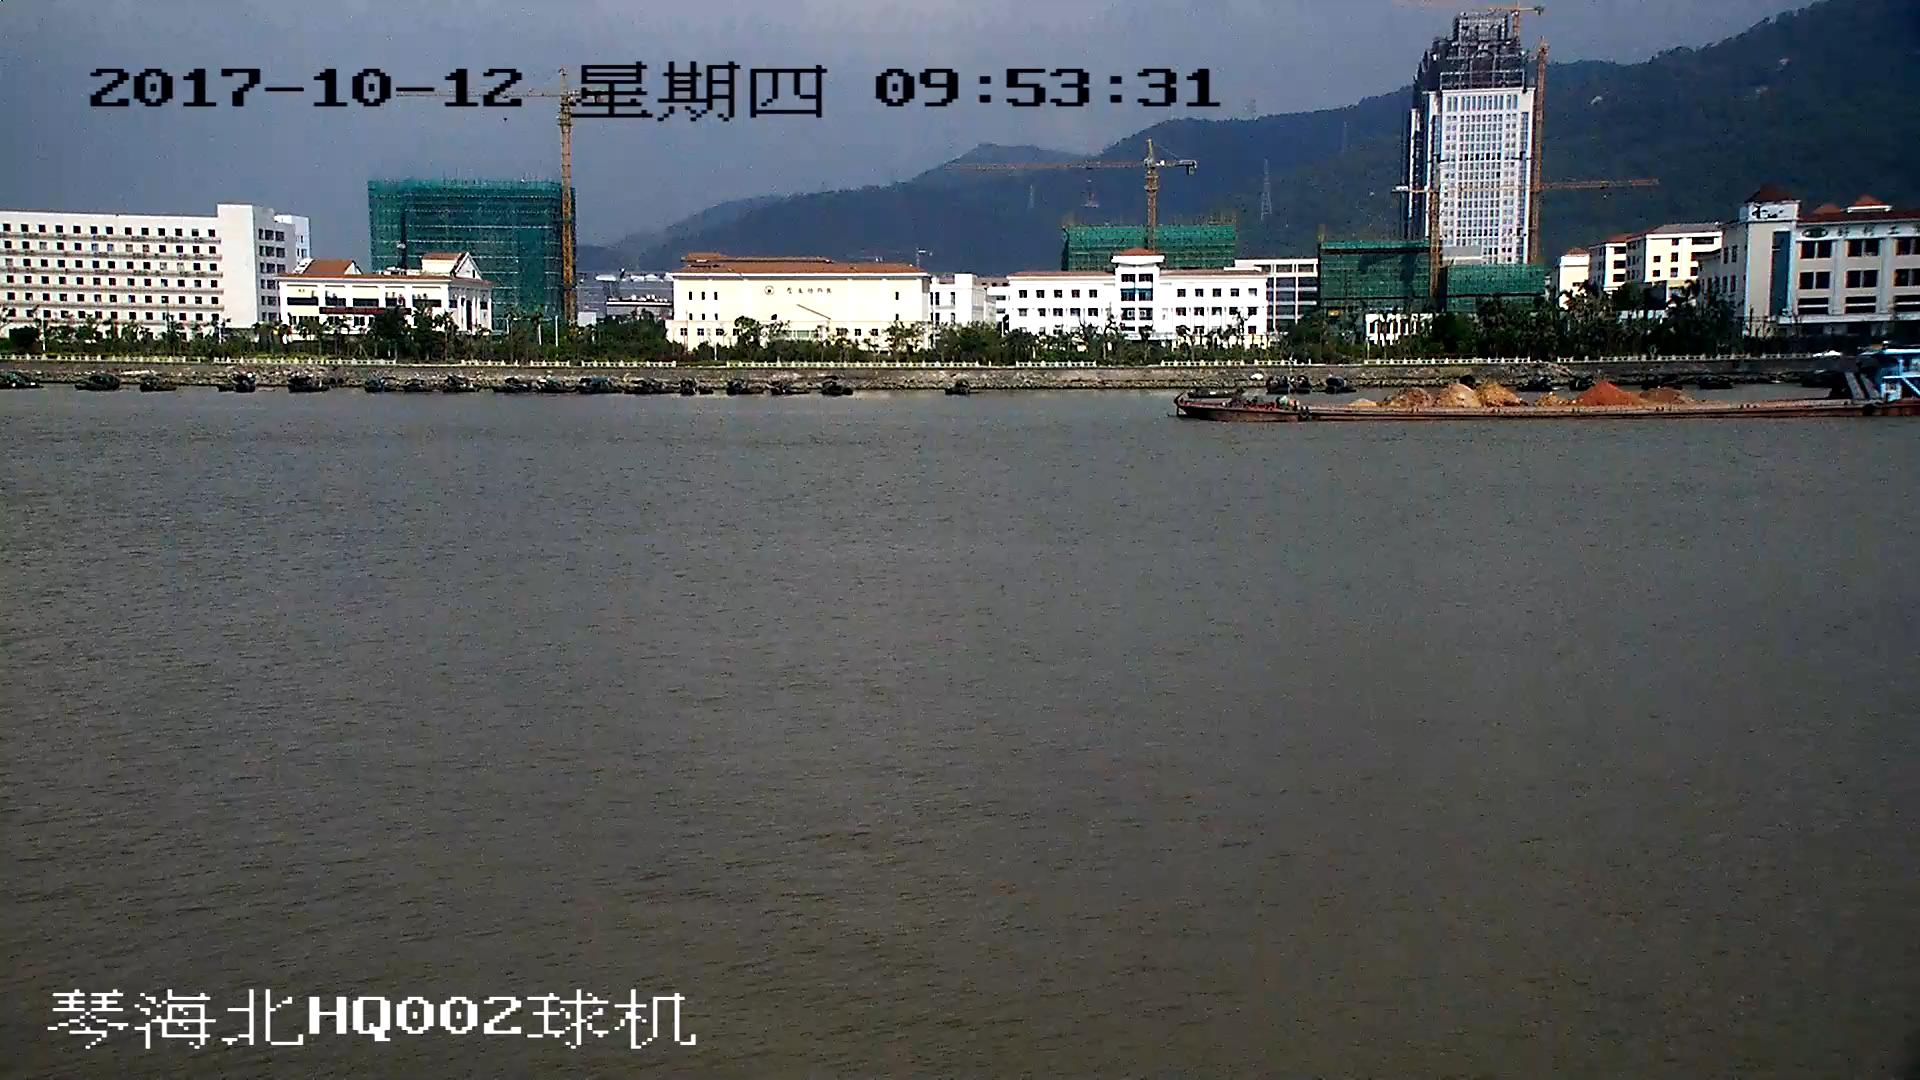ore carrier: (1180, 347, 1920, 418)
